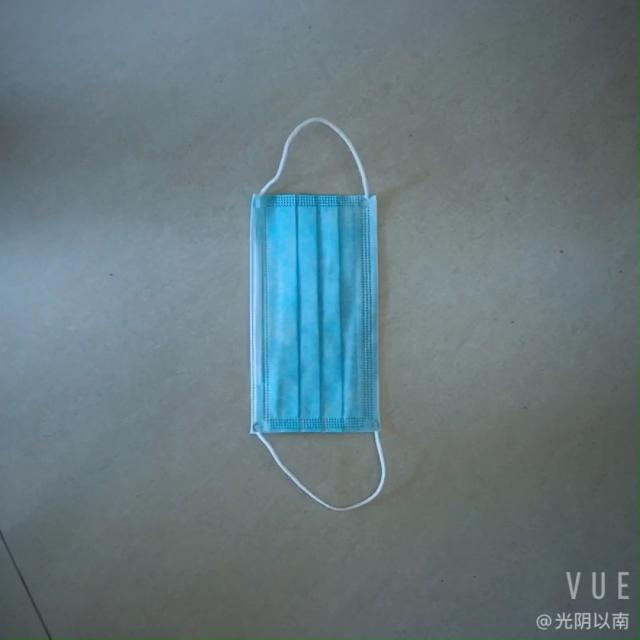face mask: (238, 185, 390, 465)
